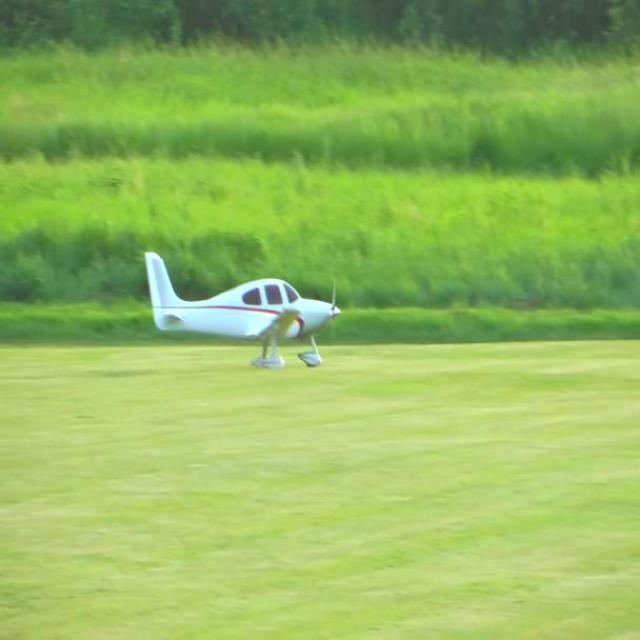iha: (124, 234, 353, 391)
